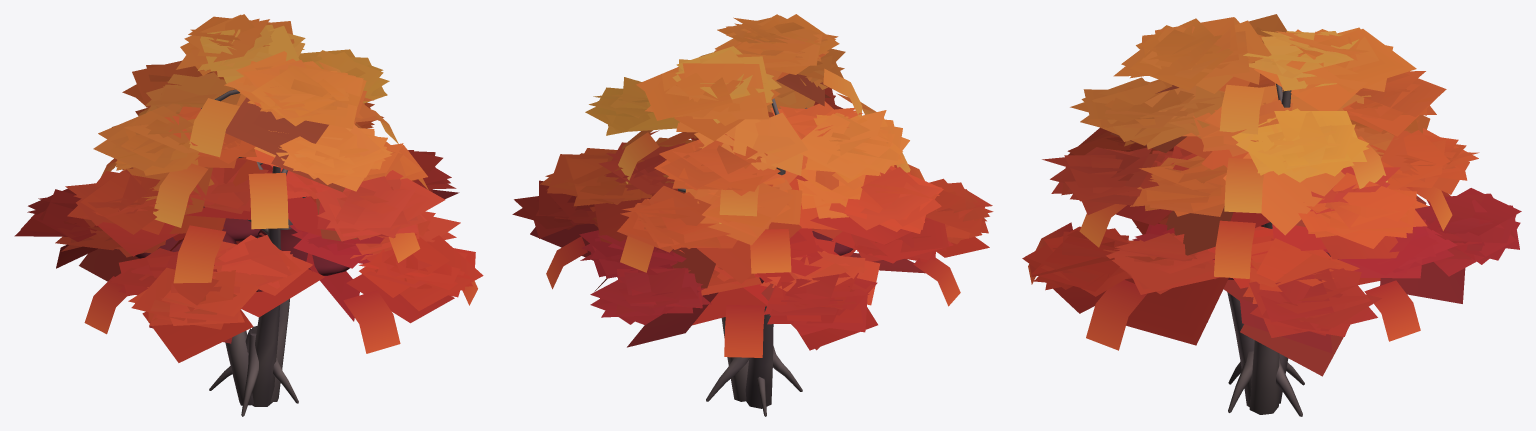
File: tree-village-momiji-v0.glb
3 renders of one model, left to right at view 1: azimuth 30°, elevation 25°; view 2: azimuth 150°, elevation 25°; view 3: azimuth 270°, elevation 25°, orthographic. The views are drawn at different scales.
Parts seen in each view (by area): view 1: cards_momiji, bark, foliage; view 2: cards_momiji, bark; view 3: cards_momiji, bark.
Part boxes in pixels (x1,y1,x2,y2): cards_momiji: (14, 14, 483, 362); bark: (201, 89, 306, 416); foliage: (135, 218, 349, 291); cards_momiji: (512, 14, 993, 357); bark: (678, 98, 807, 416); cards_momiji: (1022, 14, 1521, 376); bark: (1227, 83, 1304, 416).
Size of the model in its own units: 5.42 by 4.63 by 5.54.
